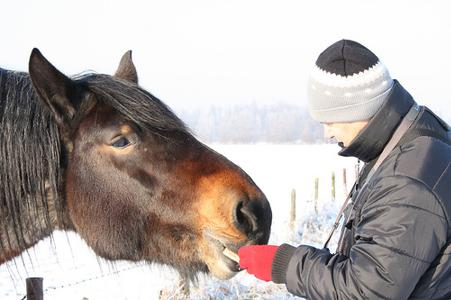person: (241, 40, 450, 299)
